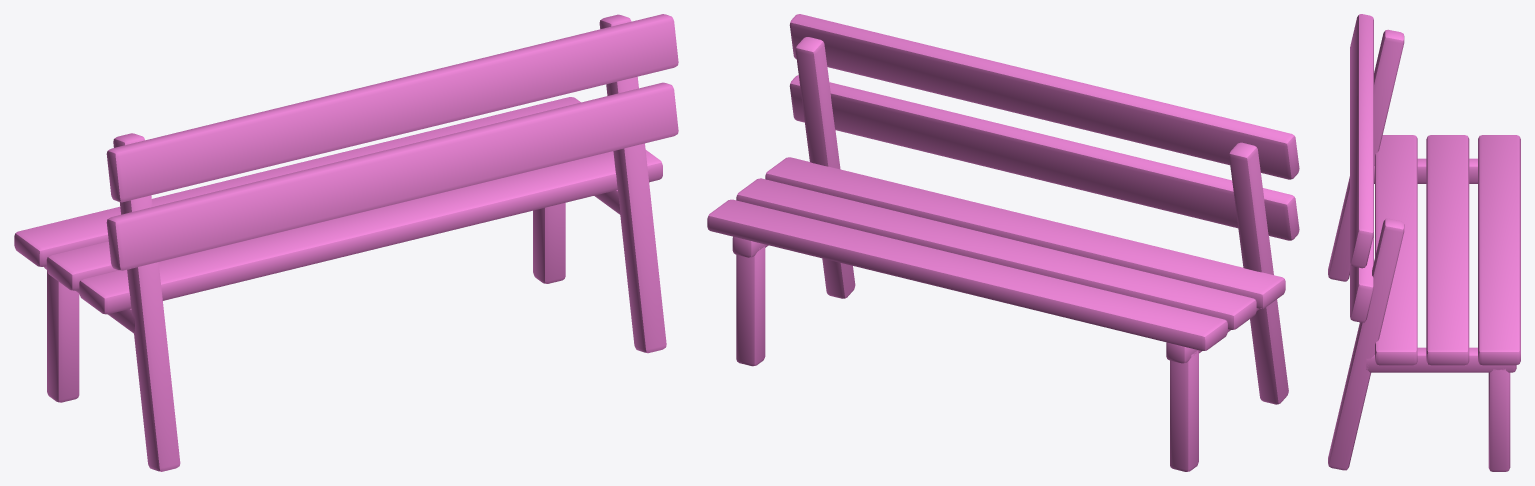
File: Street_Bench.fbx
3 views of the same model, side by side, from view 1: azimuth 30°, elevation 25°; view 2: azimuth 150°, elevation 25°; view 3: azimuth 270°, elevation 25° (orthographic). The views are drawn at different scales.
Parts seen in each view (by area): view 1: Bench; view 2: Bench; view 3: Bench.
Boxes of the visible parts, x1,y1,x2,y2 form: Bench: (14,14,678,471); Bench: (707,14,1299,471); Bench: (1328,14,1520,471).
Bounding box in the file's own units: 6 × 3.25 × 2.24.
Materials: 1 (1 with a texture image).
